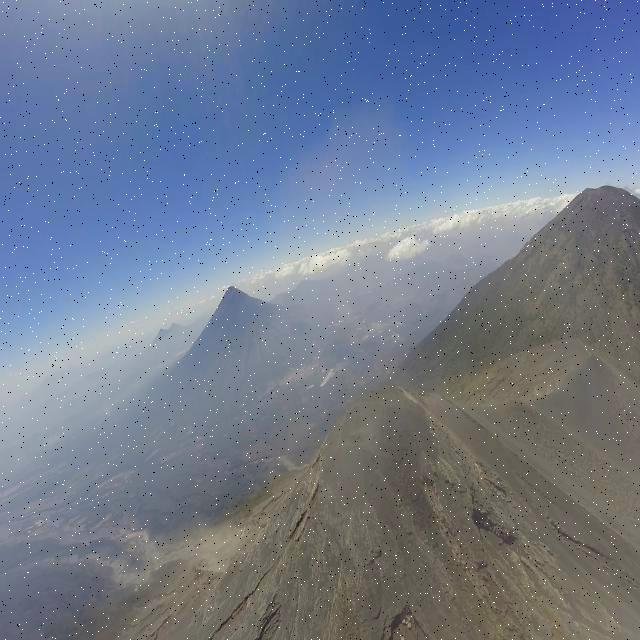Summit: (260, 370, 452, 632)
